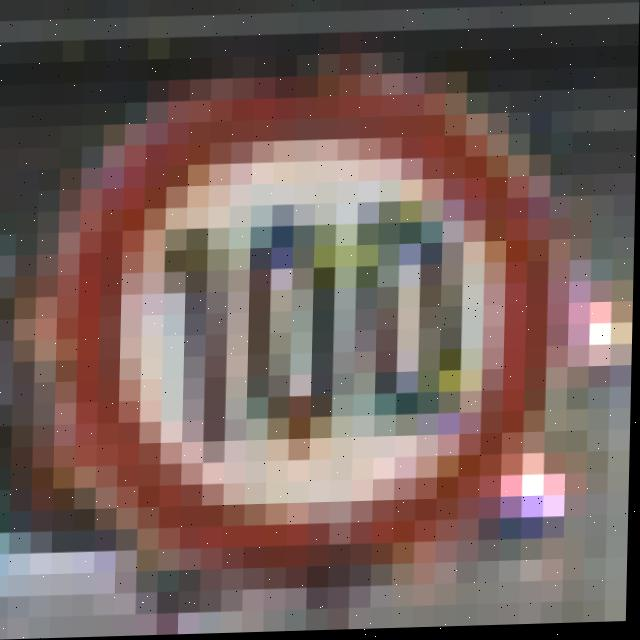speed_limit_100: (45, 61, 542, 588)
